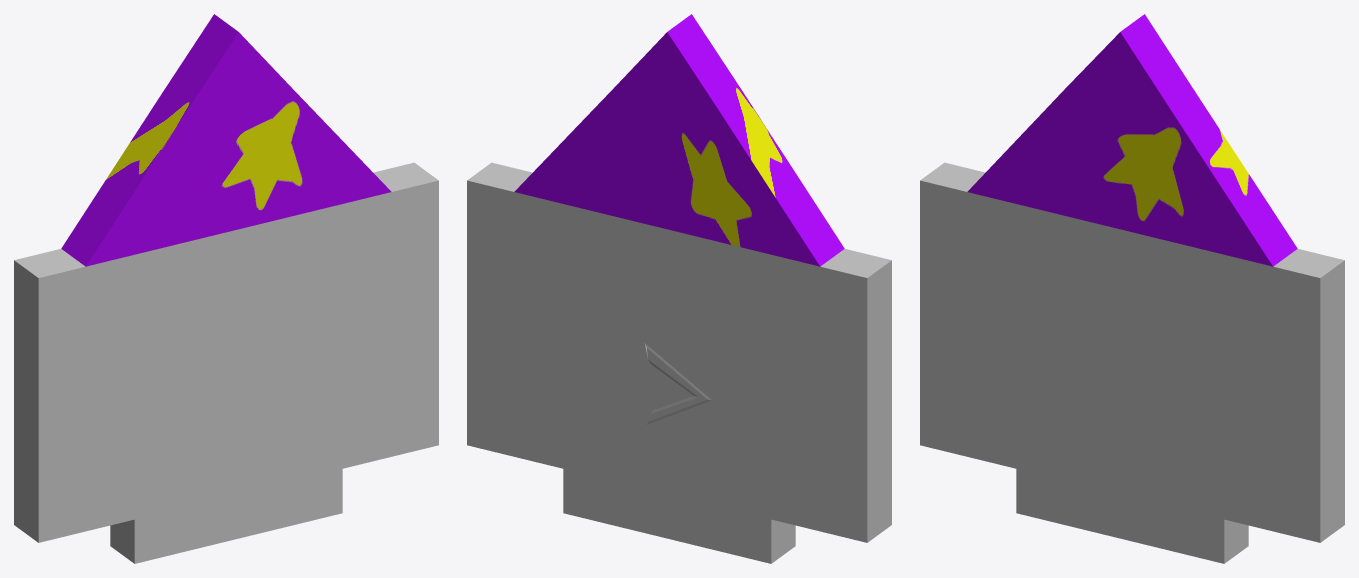
The model's file is silly jimbot the wizard2.fbx.
The picture shows the model from 3 angles, left to right: view 1: azimuth 30°, elevation 25°; view 2: azimuth 150°, elevation 25°; view 3: azimuth 330°, elevation 25°; orthographic projection.
Parts seen in each view (by area): view 1: Cube; view 2: Cube, Torus.002; view 3: Cube.
Part boxes in pixels (<box>): Cube: <box>14,14,438,563</box>; Cube: <box>467,14,891,563</box>; Torus.002: <box>644,343,711,424</box>; Cube: <box>920,14,1344,563</box>.
Bounding box in the file's own units: 1885 × 2280 × 212.
